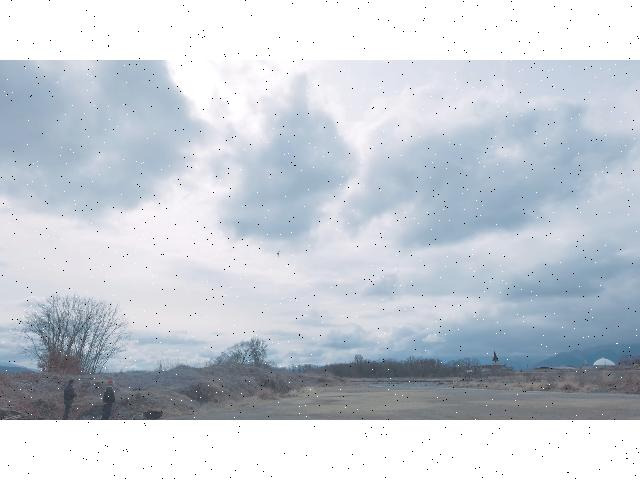Anti-Drone: (276, 248, 282, 262)
